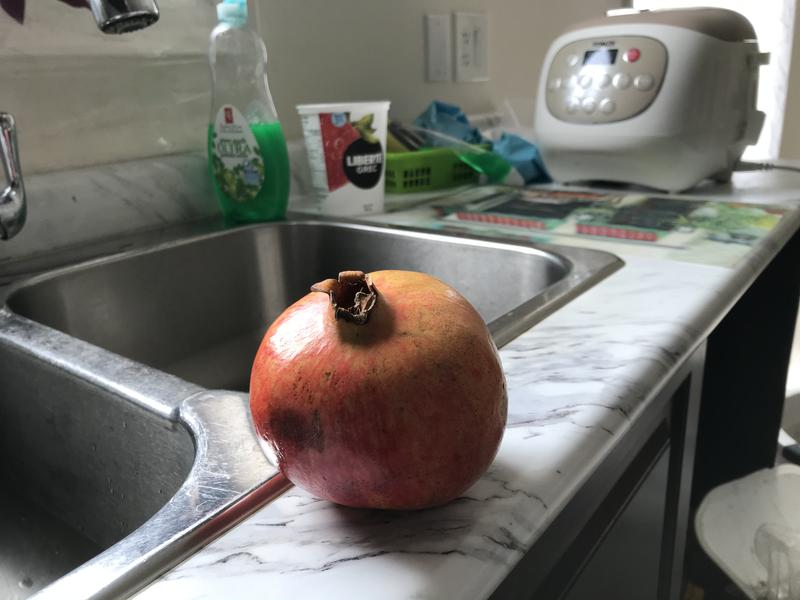pomegranate: (239, 255, 523, 511)
